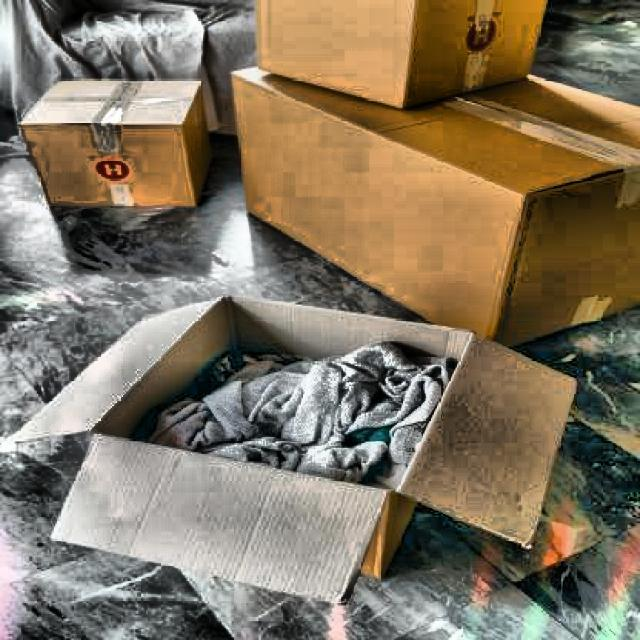Cardbox: (23, 260, 602, 603), (228, 45, 634, 365), (248, 0, 564, 116), (20, 75, 211, 211)
